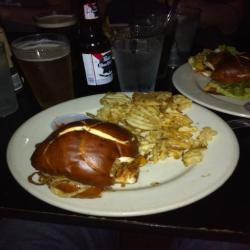burger: (21, 118, 148, 197)
salad: (212, 78, 249, 104)
